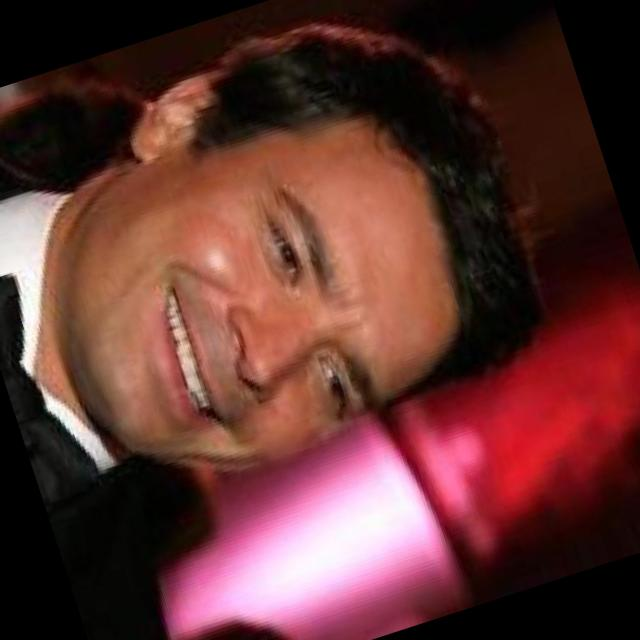bareface: (19, 49, 526, 515)
